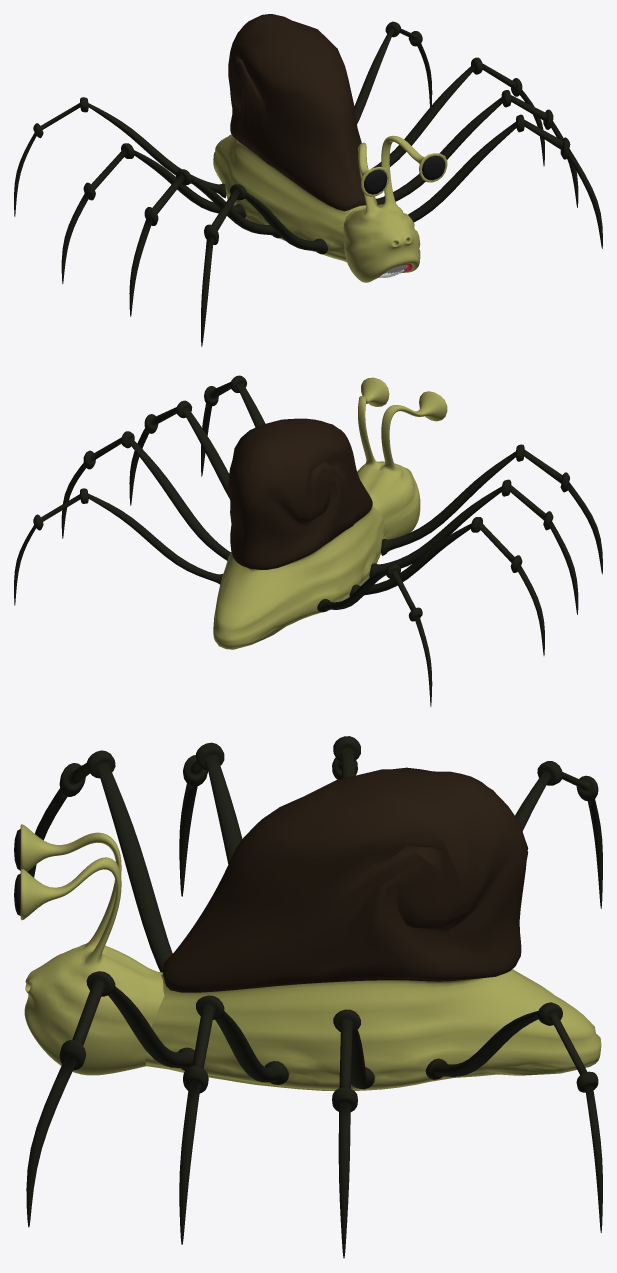
Rendered from Critter2.glb.
3 views of the same model, one above another, from view 1: azimuth 30°, elevation 25°; view 2: azimuth 150°, elevation 25°; view 3: azimuth 270°, elevation 25° (orthographic). The views are drawn at different scales.
Visible parts, largest first — view 1: Cube; view 2: Cube; view 3: Cube.
Boxes of the visible parts, x1=… form: Cube: x1=14, y1=14, x2=602, y2=346; Cube: x1=14, y1=375, x2=602, y2=706; Cube: x1=14, y1=736, x2=602, y2=1258.
Bounding box in the file's own units: 1.86 × 0.6802 × 1.23.
Materials: 5 (2 with a texture image).
